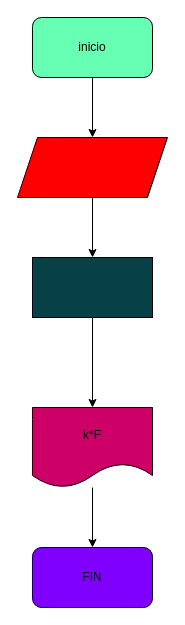
Some shapes in this 185 by 625 pixel diagram are drawn without their labels. The centre of each missing label's shape, as x and y in pixels:
F:gc x 9/5 + 32 K:gc + 273.15: the point at 92,287
grados centigrados: the point at 92,167
